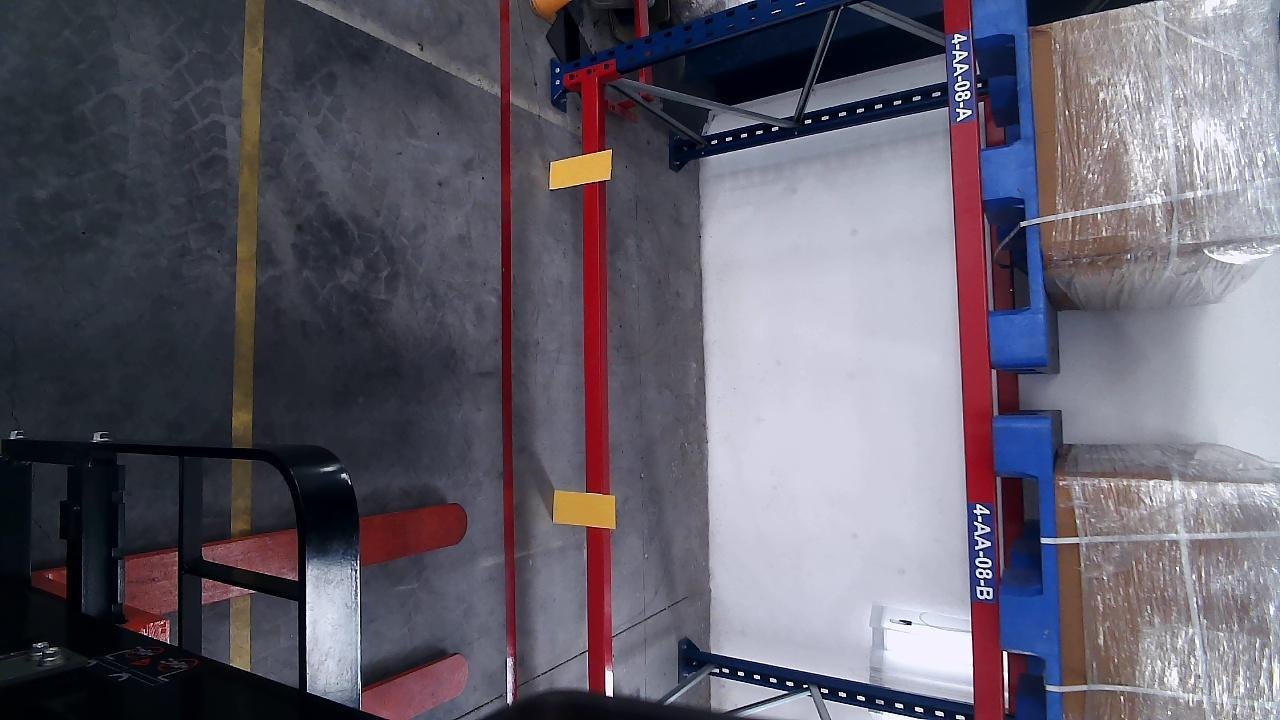h_rack: (942, 0, 1006, 718), (576, 76, 614, 695)
orange_strip: (552, 490, 617, 529), (548, 149, 611, 189)
red_line: (499, 1, 520, 705)
small_pallet: (973, 0, 1050, 355), (994, 421, 1068, 719)
yellow_line: (231, 0, 265, 445)
